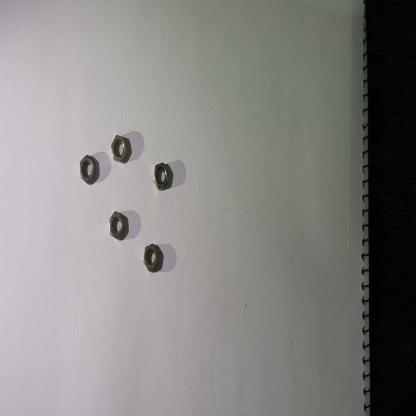NUTS: (108, 131, 130, 166), (77, 154, 98, 188), (152, 160, 172, 194), (107, 208, 126, 243), (142, 241, 161, 275)
